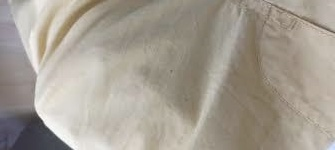oil: (106, 59, 161, 82)
